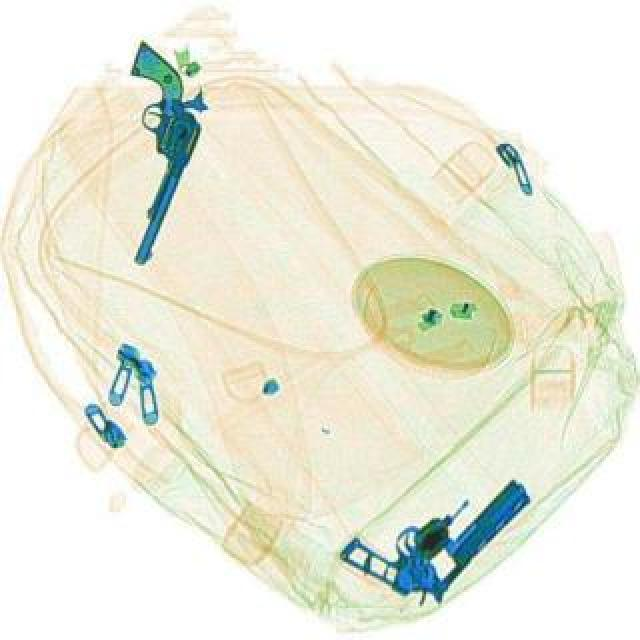gun: (338, 438, 546, 628), (64, 46, 228, 270)
